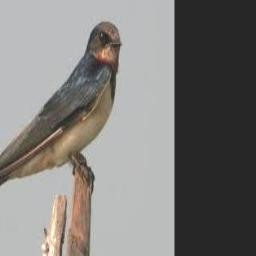Swallow: (0, 23, 121, 192)
